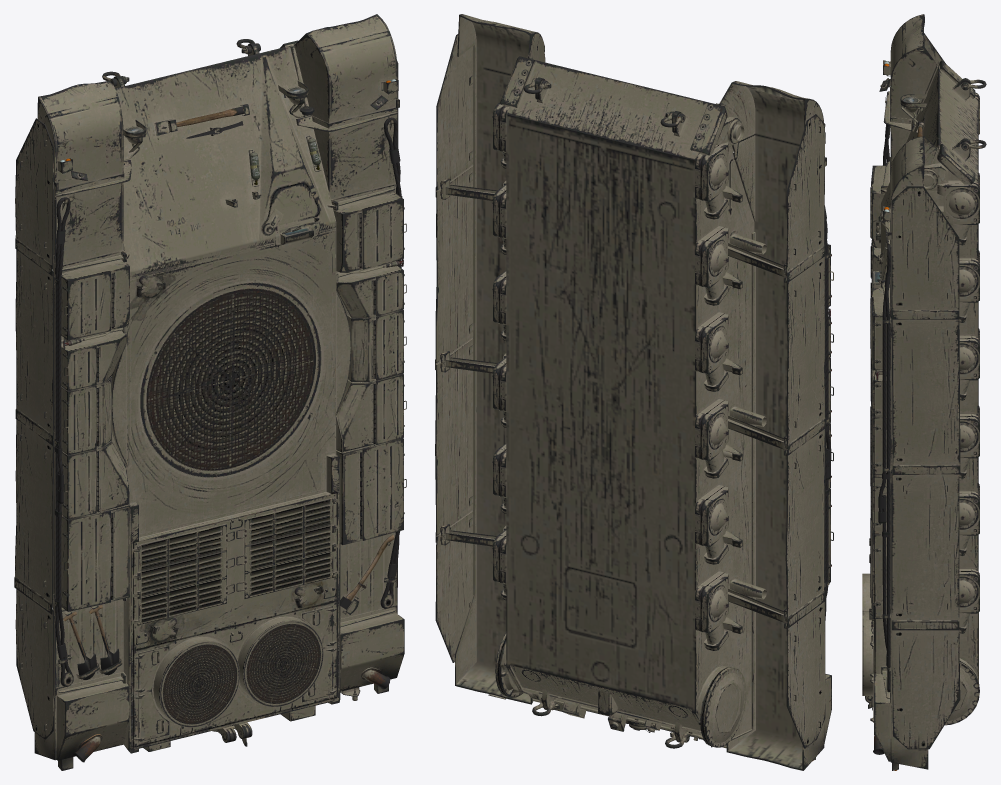
The model's file is Hull.glb.
3 renders of one model, left to right at view 1: azimuth 30°, elevation 25°; view 2: azimuth 150°, elevation 25°; view 3: azimuth 270°, elevation 25°, orthographic. The views are drawn at different scales.
Parts seen in each view (by area): view 1: set_0_group_0; view 2: set_0_group_0; view 3: set_0_group_0.
Part boxes in pixels (box(x1,y1,x2,y2)): set_0_group_0: box(14, 14, 406, 770); set_0_group_0: box(435, 14, 833, 770); set_0_group_0: box(862, 14, 986, 770).
Bounding box in the file's own units: 3.76 × 6.92 × 1.26.
1 material, 1 textured.
